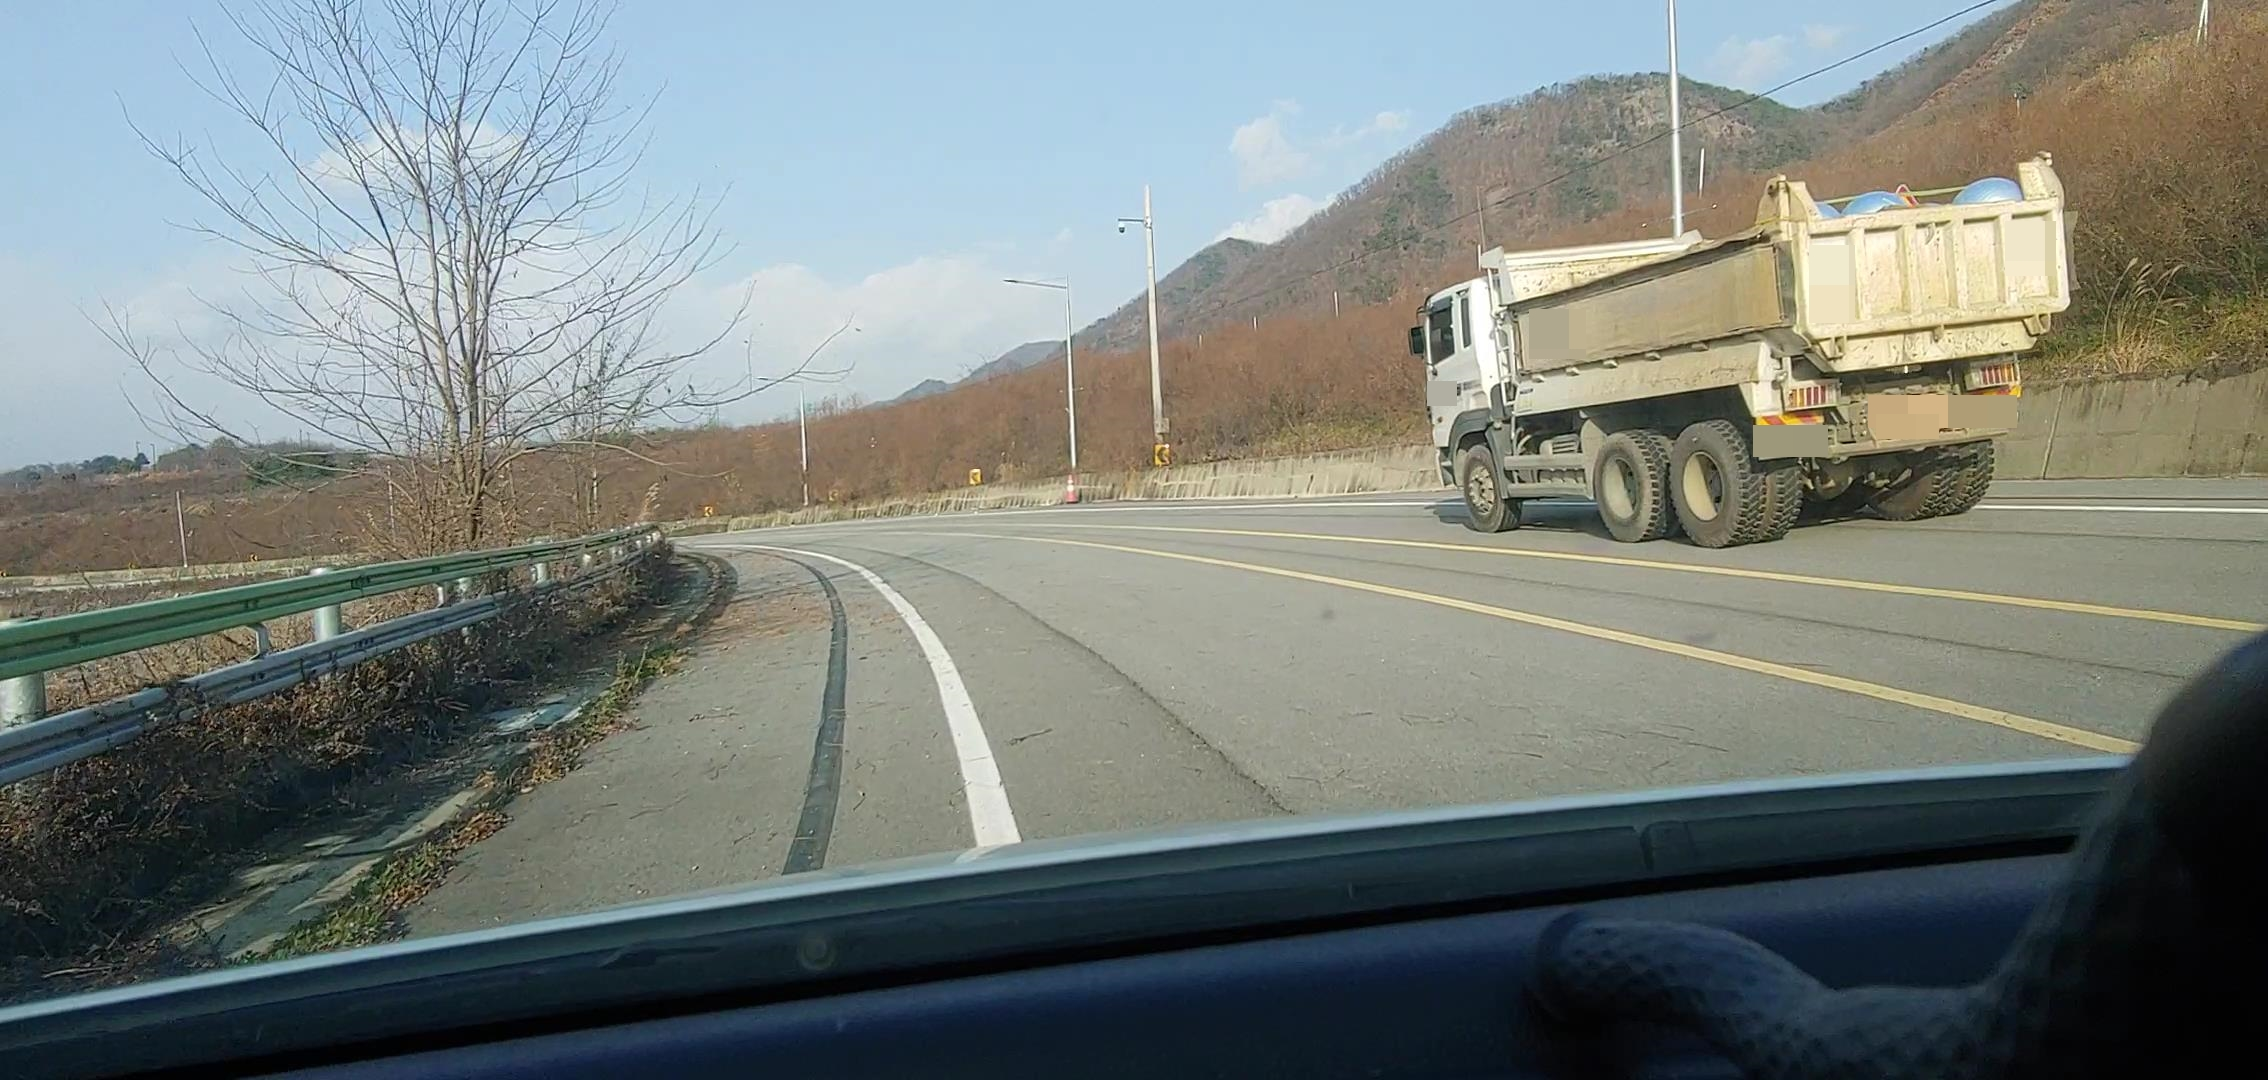불법차량: (1407, 152, 2080, 548)
